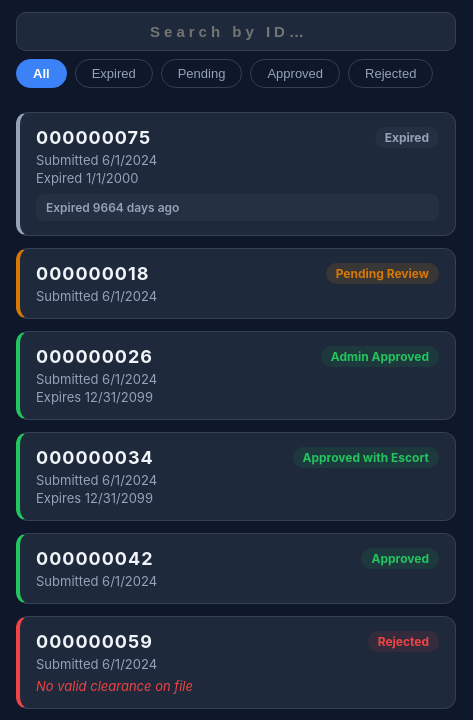
Test: MySubmissions — filter chips › Pending filter shows only pending entries
Expected: the text "000000018" is shown, [36,263,150,284]
Click the button "Pending".
click(202, 74)  # box [161,59,242,88]
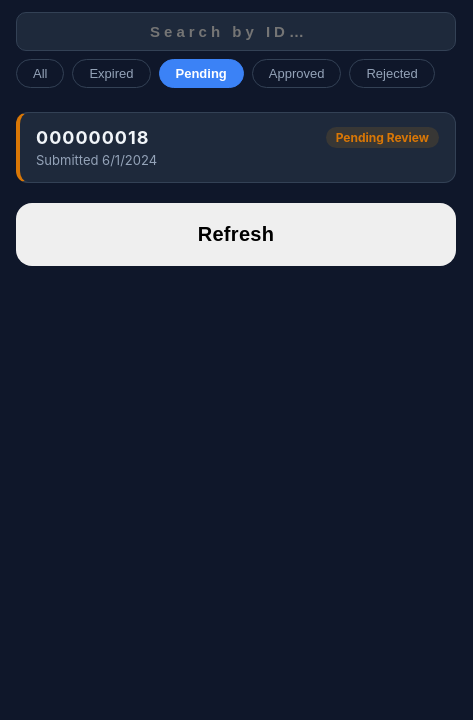
Expected: the text "000000018" is shown, [36,127,150,148]
Expected: the text "000000026" is gone
Expected: the text "000000075" is gone
